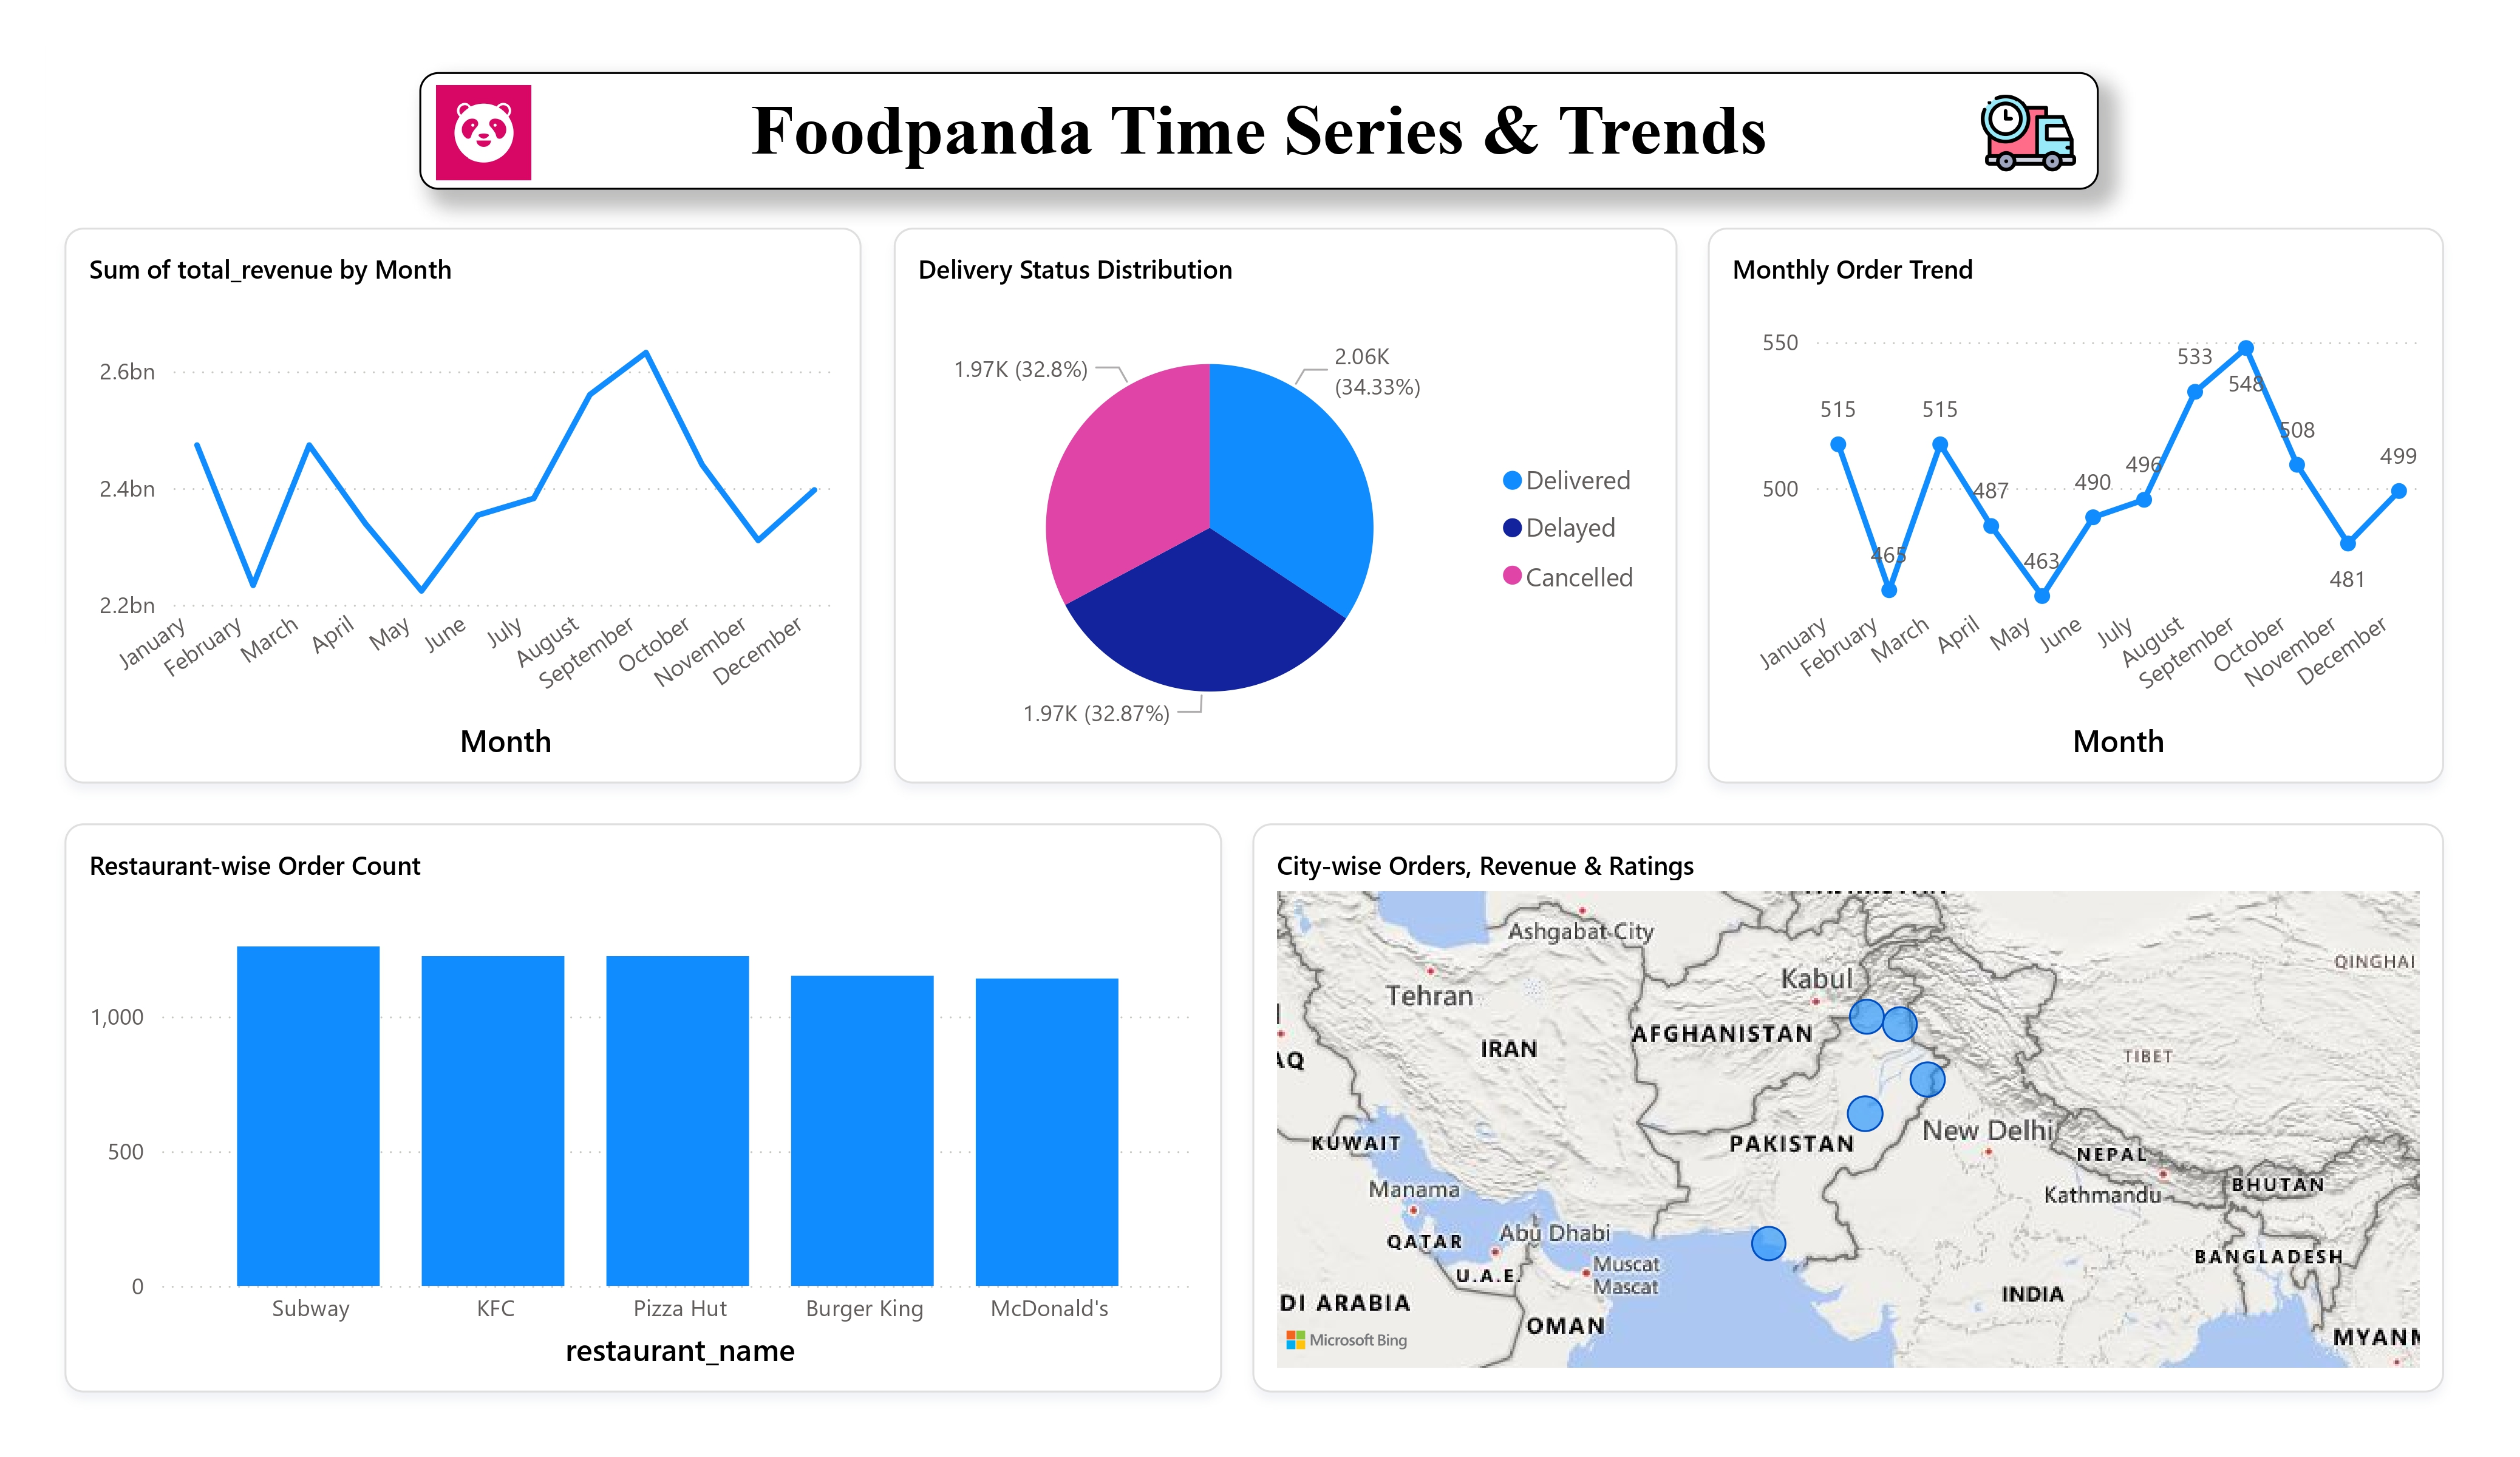

Layout of this report page (visuals, bound fields, positions):
{"tool":"powerbi","page":{"name":"Page 3 Time Series / Advanced Trends","canvas":[1280,720],"ordinal":2},"visuals":[{"type":"lineChart","title":"Monthly Order Trend","fields":{"Y":["CountNonNull(Foodpanda Analysis Dataset.order_id)"],"Category":["Foodpanda Analysis Dataset.order_date.Variation.Date Hierarchy.Month"]},"box":[875.7,95.7,388.6,292.9],"z":0},{"type":"clusteredColumnChart","title":"Restaurant-wise Order Count","fields":{"Y":["CountNonNull(Foodpanda Analysis Dataset.order_id)"],"Category":["Foodpanda Analysis Dataset.restaurant_name"]},"box":[10,410,610,300],"z":1000},{"type":"pieChart","title":"Delivery Status Distribution","fields":{"Y":["CountNonNull(Foodpanda Analysis Dataset.order_id)"],"Category":["Foodpanda Analysis Dataset.delivery_status"]},"box":[447.1,95.7,412.9,292.9],"z":2000},{"type":"map","title":"City-wise Orders, Revenue & Ratings","fields":{"Category":["Foodpanda Analysis Dataset.city"],"Size":["CountNonNull(Foodpanda Analysis Dataset.order_id)"]},"box":[635.7,410,628.6,300],"z":3000},{"type":"lineChart","title":"Sum of total_revenue by Month","fields":{"Category":["Foodpanda Analysis Dataset.order_date.Variation.Date Hierarchy.Month"],"Y":["Sum(Foodpanda Analysis Dataset.total_revenue)"]},"box":[10,95.7,420,292.9],"z":4000},{"type":"textbox","box":[197.1,14.3,885,62],"z":5000},{"type":"image","box":[198.6,15.7,64.3,60],"z":6000},{"type":"image","box":[1008.6,15.7,71.4,60],"z":7000}]}

Visuals, with their boxes in screenshot pixels (x1, y1, x2, y2):
"Monthly Order Trend" lineChart: region(1708, 227, 2445, 783)
"Restaurant-wise Order Count" clusteredColumnChart: region(64, 823, 1222, 1393)
"Delivery Status Distribution" pieChart: region(894, 227, 1677, 783)
"City-wise Orders, Revenue & Ratings" map: region(1252, 823, 2445, 1393)
"Sum of total_revenue by Month" lineChart: region(64, 227, 862, 783)
textbox: region(420, 73, 2099, 190)
image: region(423, 75, 545, 189)
image: region(1960, 75, 2095, 189)
